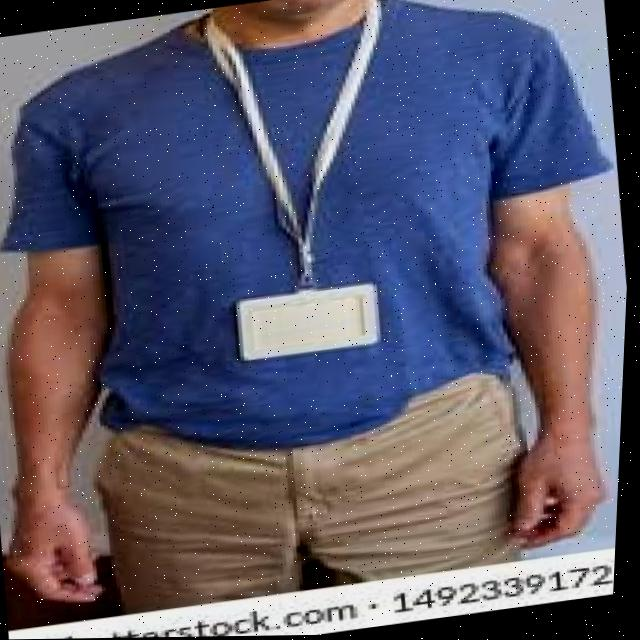id_card: (188, 0, 402, 374)
